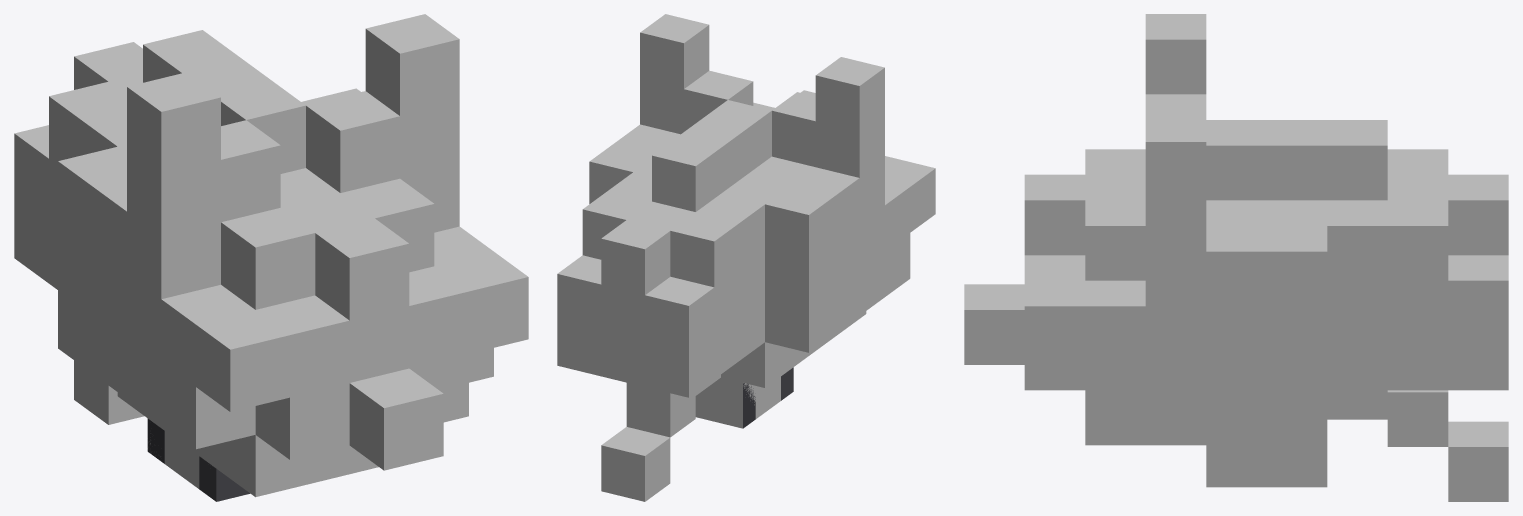
Rendered from CatEv0.fbx.
The picture shows the model from 3 angles, left to right: view 1: azimuth 30°, elevation 25°; view 2: azimuth 150°, elevation 25°; view 3: azimuth 270°, elevation 25°; orthographic projection. The views are drawn at different scales.
Visible parts, largest first — view 1: catHead, Untitled.004, Untitled.009, Untitled, backrightleg2; view 2: Untitled.004, catHead, Untitled.009, Untitled.010, Untitled, backrightleg2; view 3: Untitled.004, catHead, Untitled.009, backleftleg1, frontleftleg2.
Part boxes in pixels (x1,y1,x2,y2): catHead: [92, 14, 528, 497]; Untitled.004: [14, 30, 468, 482]; Untitled.009: [74, 360, 144, 424]; Untitled: [147, 418, 249, 501]; backrightleg2: [164, 431, 199, 488]; Untitled.004: [557, 100, 859, 397]; catHead: [640, 14, 935, 369]; Untitled.009: [601, 383, 695, 501]; Untitled.010: [699, 377, 755, 428]; Untitled: [743, 367, 793, 428]; backrightleg2: [755, 377, 780, 418]; Untitled.004: [964, 120, 1508, 445]; catHead: [1024, 14, 1266, 445]; Untitled.009: [1327, 390, 1508, 501]; backleftleg1: [1206, 445, 1327, 487]; frontleftleg2: [1236, 445, 1296, 487].
Bounding box in the file's own units: 200 × 360 × 300.
